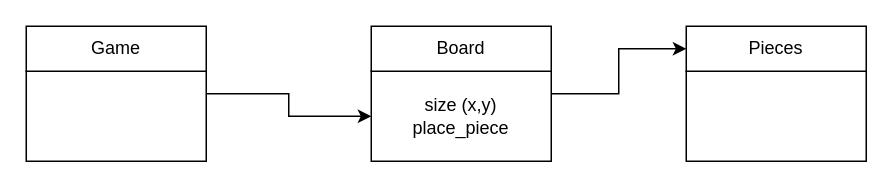
The diagram is 893 pixels wide and 188 high, and some of its shapes have lost their labels. Each missing label, with the box of its shape:
color: (685, 70, 866, 161)
players: list next_turn reset finish: (25, 70, 206, 161)
